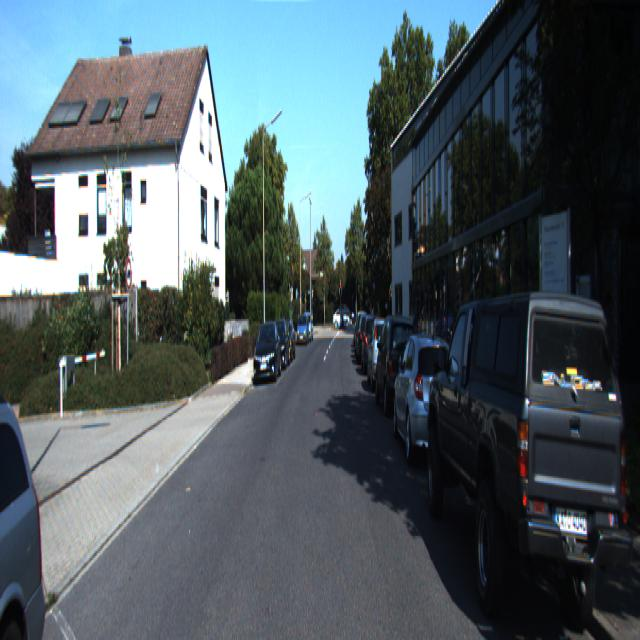Car: (423, 268, 640, 638), (0, 377, 56, 638), (392, 325, 462, 472), (375, 309, 419, 418), (367, 315, 398, 395), (252, 318, 282, 385), (361, 310, 386, 376), (297, 313, 310, 346)
